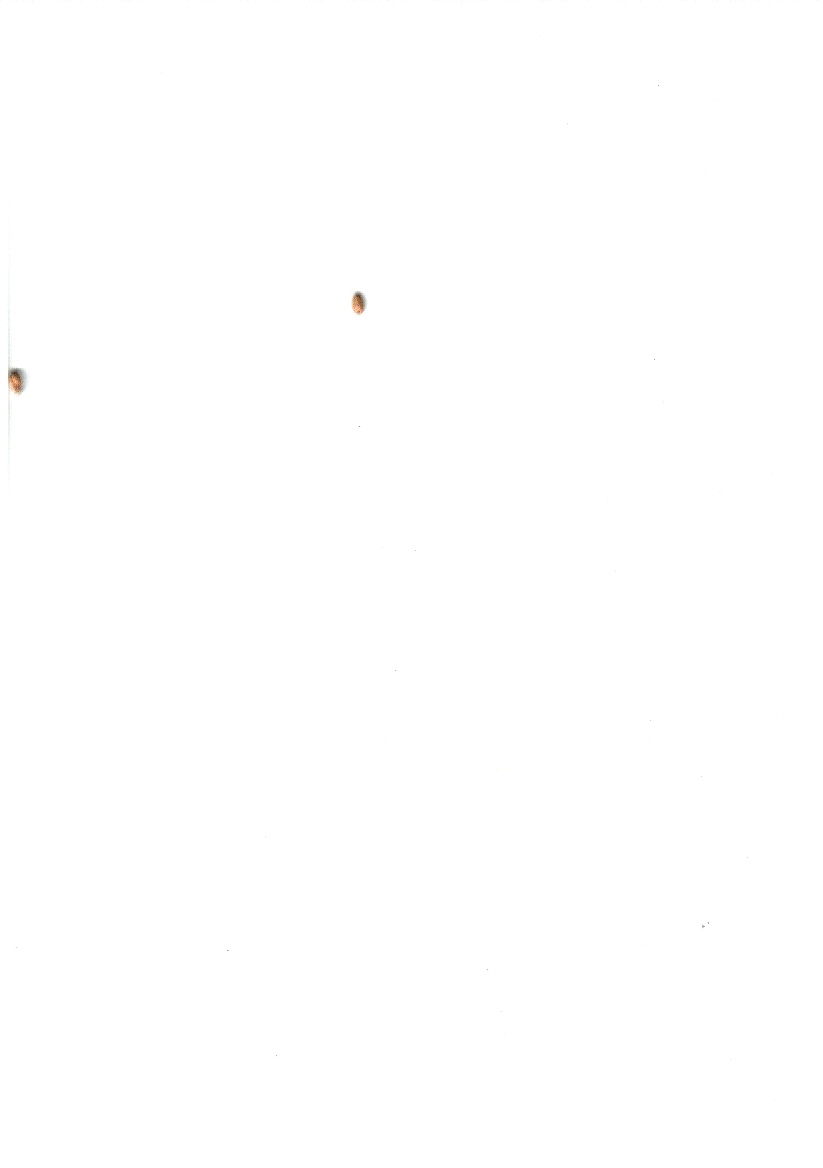grains: (341, 281, 376, 323), (3, 362, 32, 403)
